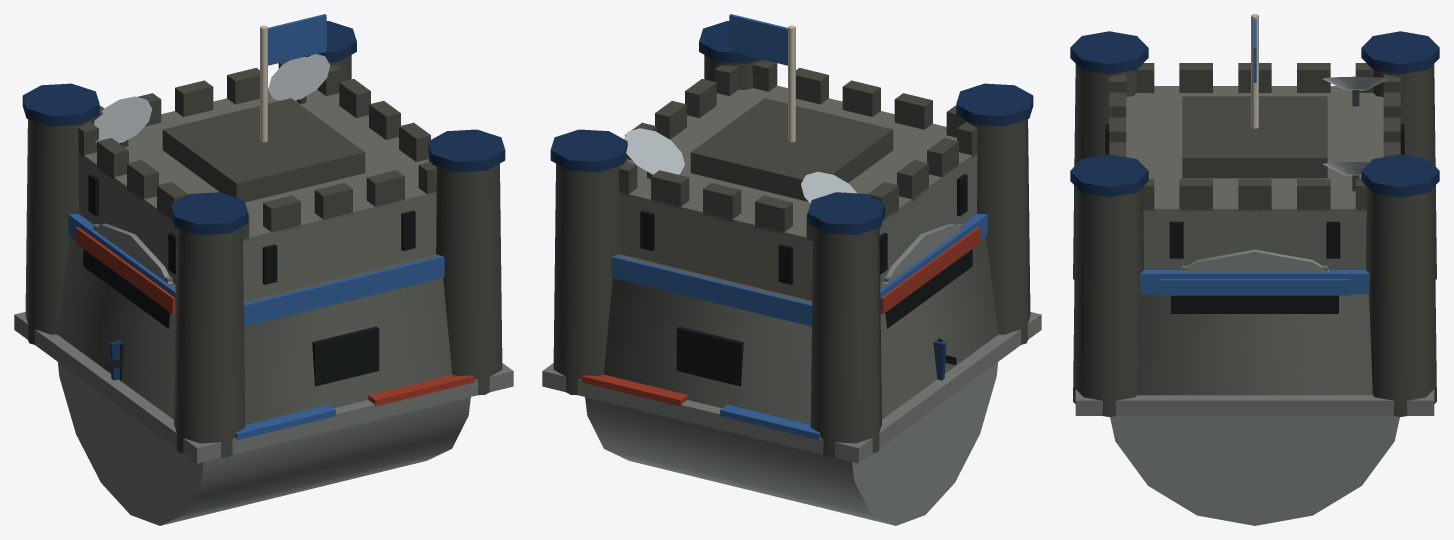
Rendered from models.glb.
3 renders of one model, left to right at view 1: azimuth 30°, elevation 25°; view 2: azimuth 150°, elevation 25°; view 3: azimuth 270°, elevation 25°, orthographic.
Parts seen in each view (by area): view 1: base (×3); view 2: base (×3); view 3: base (×3).
Part boxes in pixels (x1,y1,x2,y2): base (×3): (14,14,513,525); base (×3): (542,14,1041,525); base (×3): (1070,14,1439,525).
Bounding box in the file's own units: 66 × 88 × 66.
